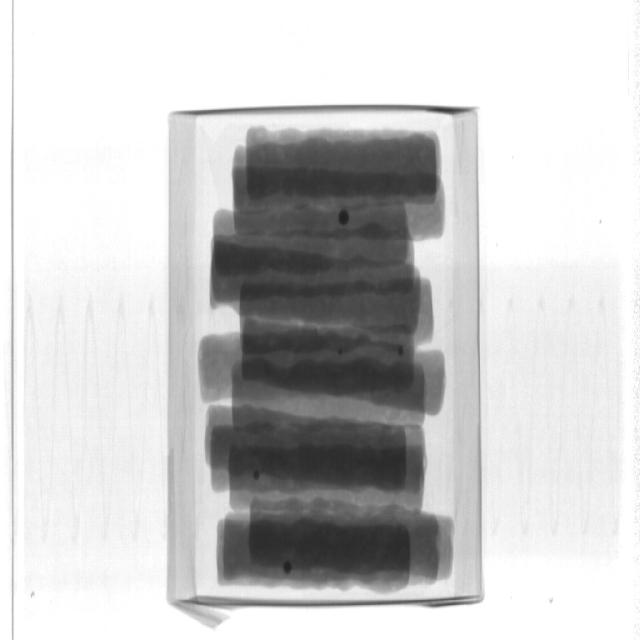ym: (340, 210, 351, 226), (398, 342, 405, 360), (285, 562, 294, 574), (253, 471, 261, 480), (339, 348, 343, 358)
